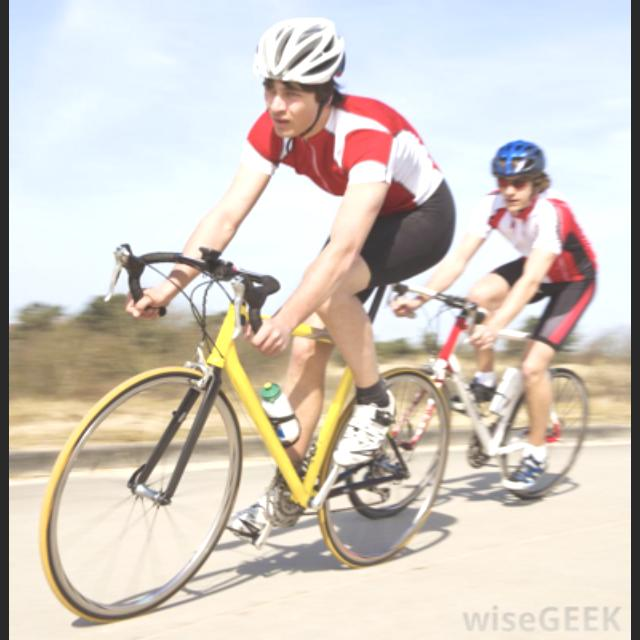With Helmet: (248, 16, 349, 142), (479, 132, 556, 216)
